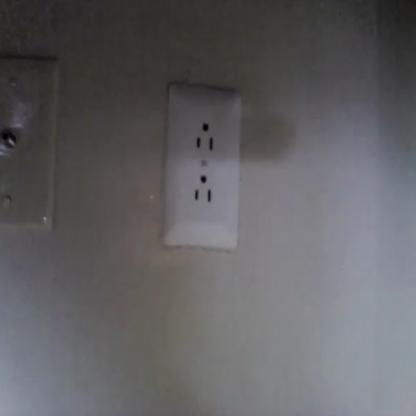OUTLET: (164, 90, 242, 248)
